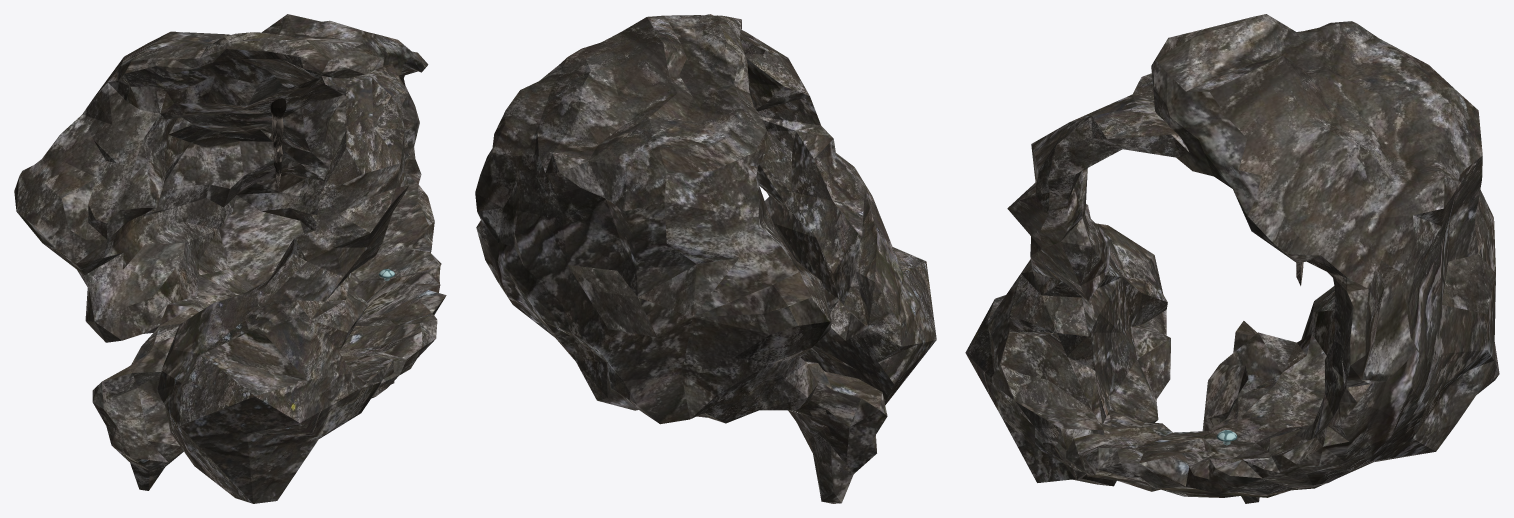
File: CaveThings.fbx
3 views of the same model, side by side, from view 1: azimuth 30°, elevation 25°; view 2: azimuth 150°, elevation 25°; view 3: azimuth 270°, elevation 25° (orthographic). The views are drawn at different scales.
Parts seen in each view (by area): view 1: Icosphere.002, Sphere.009, Stalagmite; view 2: Icosphere.002, Sphere.009; view 3: Icosphere.002, Sphere.009.
Part boxes in pixels (box(x1,y1,x2,y2)): Icosphere.002: box(14, 14, 446, 490); Sphere.009: box(157, 64, 410, 503); Stalagmite: box(270, 98, 286, 191); Icosphere.002: box(475, 15, 887, 503); Sphere.009: box(705, 14, 936, 404); Icosphere.002: box(1043, 14, 1499, 503); Sphere.009: box(965, 73, 1189, 486).
Size of the model in its own units: 6257 by 6887 by 6060.
